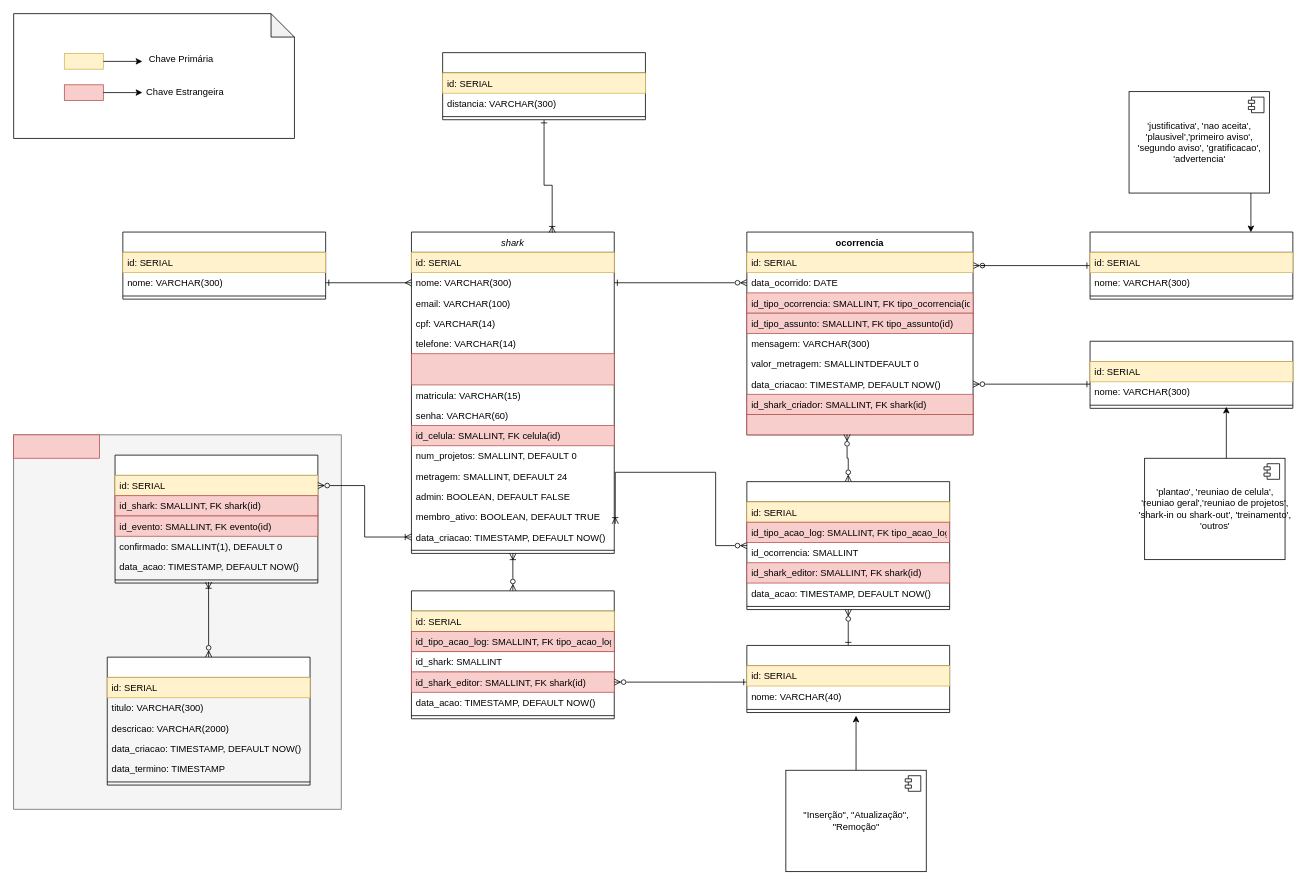
Image size: 1307x885. Some labels were removed from this diagram. The shapes that lost their labels are listed below. From the top down, each one's box as (x1, y1, x2, y2) in pixels, then its label:
(442, 52, 645, 120): distancia_residencia
(122, 231, 326, 299): celula
(1089, 231, 1293, 299): tipo_ocorrencia
(411, 353, 614, 385): id_distancia_residencia: SMALLINT, FK distancia_residencia(id)
(1089, 340, 1293, 408): tipo_assunto
(746, 414, 973, 435): id_shark_referente: SMALLINT, FK shark(id)
(13, 434, 99, 458): EDITANDO
(114, 454, 318, 583): presenca
(746, 481, 950, 610): ocorrencia_log
(411, 590, 614, 719): shark_log
(746, 645, 950, 713): tipo_acao_log
(106, 656, 310, 785): evento
